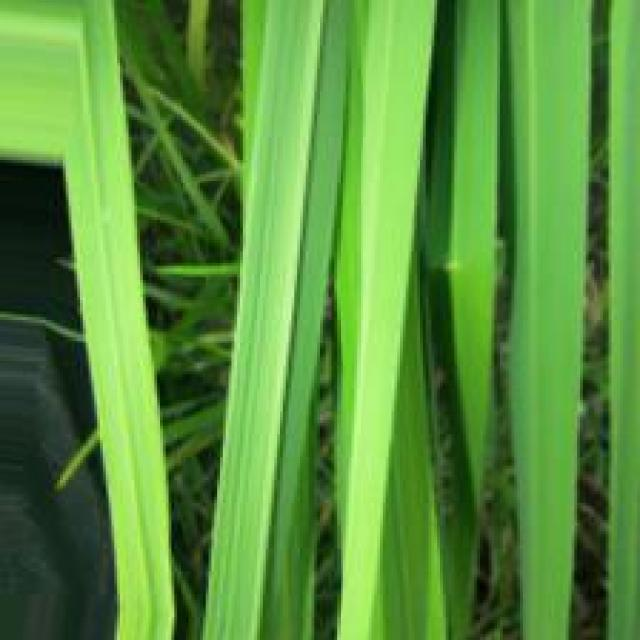HealthyLeaf: (200, 0, 459, 640), (2, 1, 174, 637), (414, 0, 507, 498)
